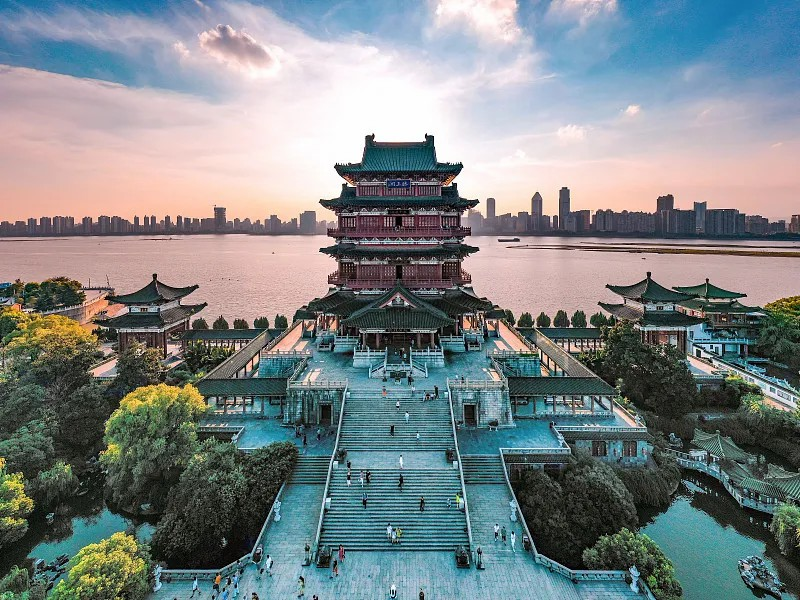Teng: (295, 133, 507, 352)
